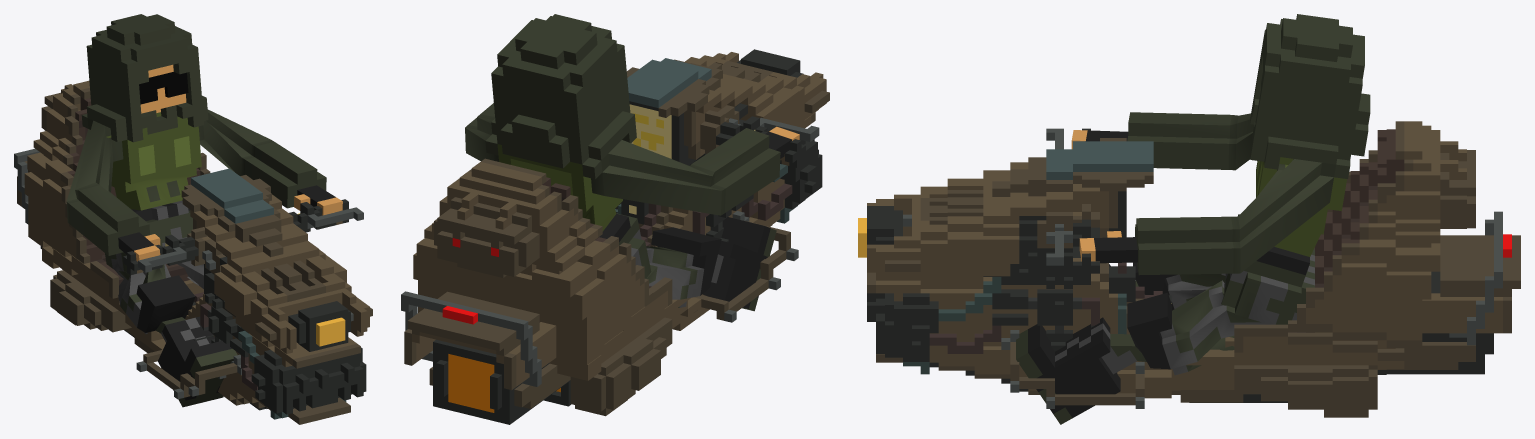
File: OnScooter.obj
The picture shows the model from 3 angles, left to right: view 1: azimuth 30°, elevation 25°; view 2: azimuth 150°, elevation 25°; view 3: azimuth 270°, elevation 25°; orthographic projection. The views are drawn at different scales.
Parts seen in each view (by area): view 1: Scooter_Scooter_palette.006, Character-0.005_Character-0.005_palette.008; view 2: Scooter_Scooter_palette.006, Character-0.005_Character-0.005_palette.008; view 3: Scooter_Scooter_palette.006, Character-0.005_Character-0.005_palette.008.
Part boxes in pixels (<box>): Scooter_Scooter_palette.006: <box>14,80,372,424</box>; Character-0.005_Character-0.005_palette.008: <box>66,14,342,407</box>; Scooter_Scooter_palette.006: <box>401,49,829,424</box>; Character-0.005_Character-0.005_palette.008: <box>465,14,799,311</box>; Scooter_Scooter_palette.006: <box>858,121,1520,417</box>; Character-0.005_Character-0.005_palette.008: <box>1016,14,1370,424</box>.
Size of the model in its own units: 4.39 by 5.63 by 9.39.
Materials: 2 (2 with a texture image).
